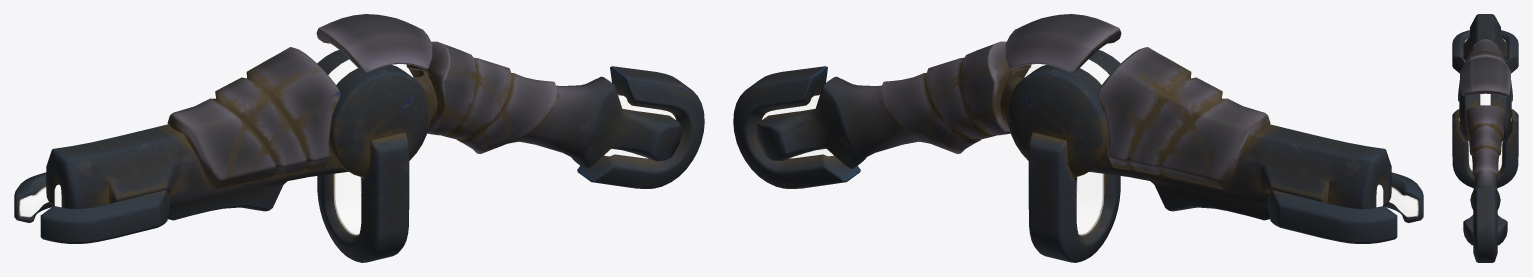
The model's file is Pistol.glb.
3 views of the same model, side by side, from view 1: azimuth 30°, elevation 25°; view 2: azimuth 150°, elevation 25°; view 3: azimuth 270°, elevation 25° (orthographic). The views are drawn at different scales.
Visible parts, largest first — view 1: Pistol; view 2: Pistol; view 3: Pistol.
Part boxes in pixels (x1,y1,x2,y2): Pistol: (14, 14, 704, 262); Pistol: (733, 14, 1423, 262); Pistol: (1452, 14, 1518, 262).
Bounding box in the file's own units: 0.417 × 0.1388 × 0.0671.
Materials: 1 (1 with a texture image).
